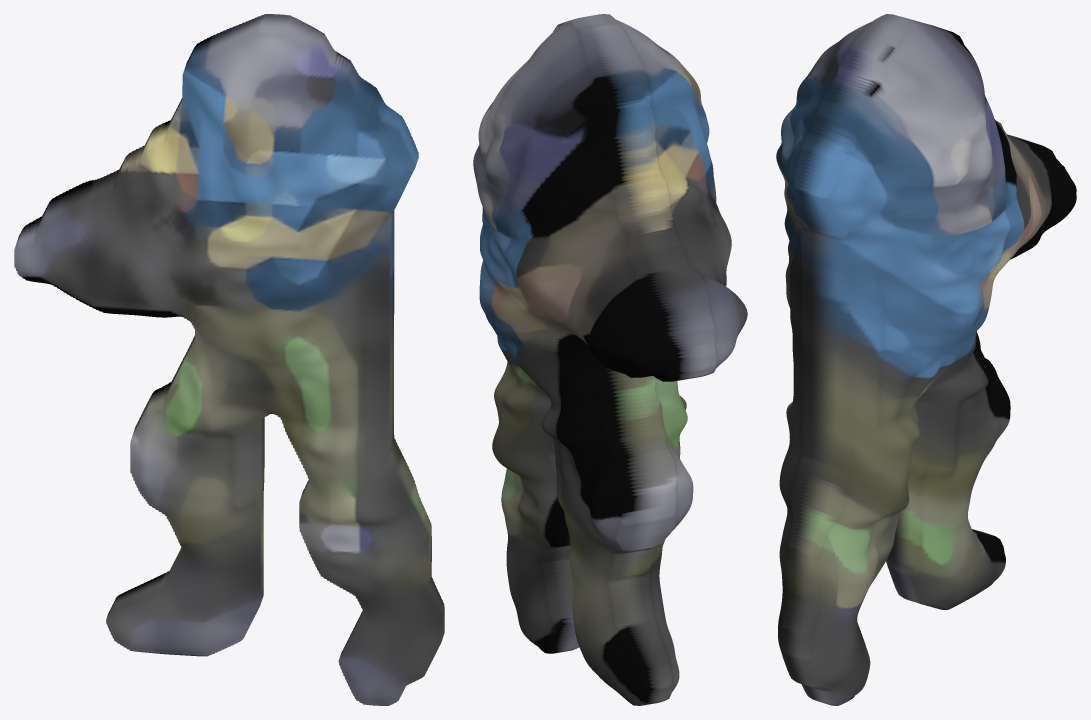
File: allied_gi.glb
3 views of the same model, side by side, from view 1: azimuth 30°, elevation 25°; view 2: azimuth 150°, elevation 25°; view 3: azimuth 270°, elevation 25° (orthographic). The views are drawn at different scales.
Visible parts, largest first — view 1: allied_gi; view 2: allied_gi; view 3: allied_gi.
Part boxes in pixels (bbox=[...]): allied_gi: bbox=[14, 14, 444, 705]; allied_gi: bbox=[473, 14, 747, 705]; allied_gi: bbox=[776, 14, 1076, 705].
Bounding box in the file's own units: 1.1 × 2.23 × 0.9409.
